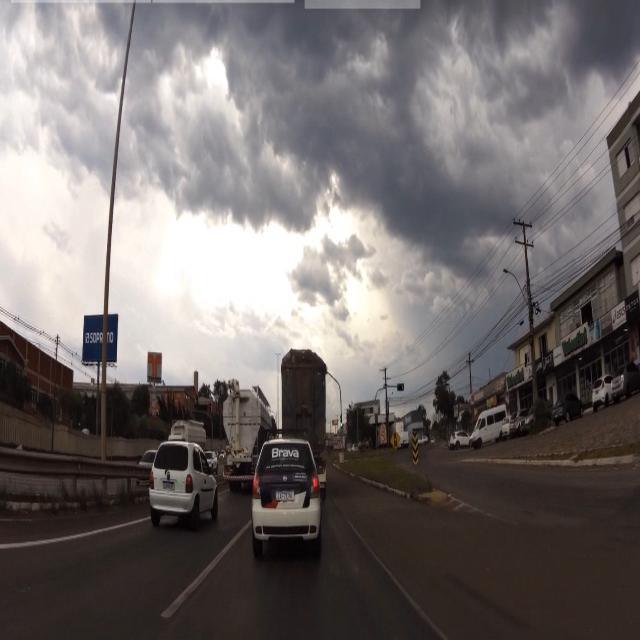MP: (411, 431, 419, 469)
